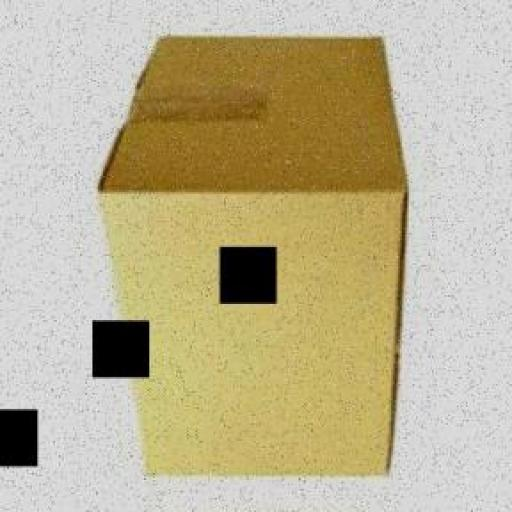box: (94, 30, 411, 480)
